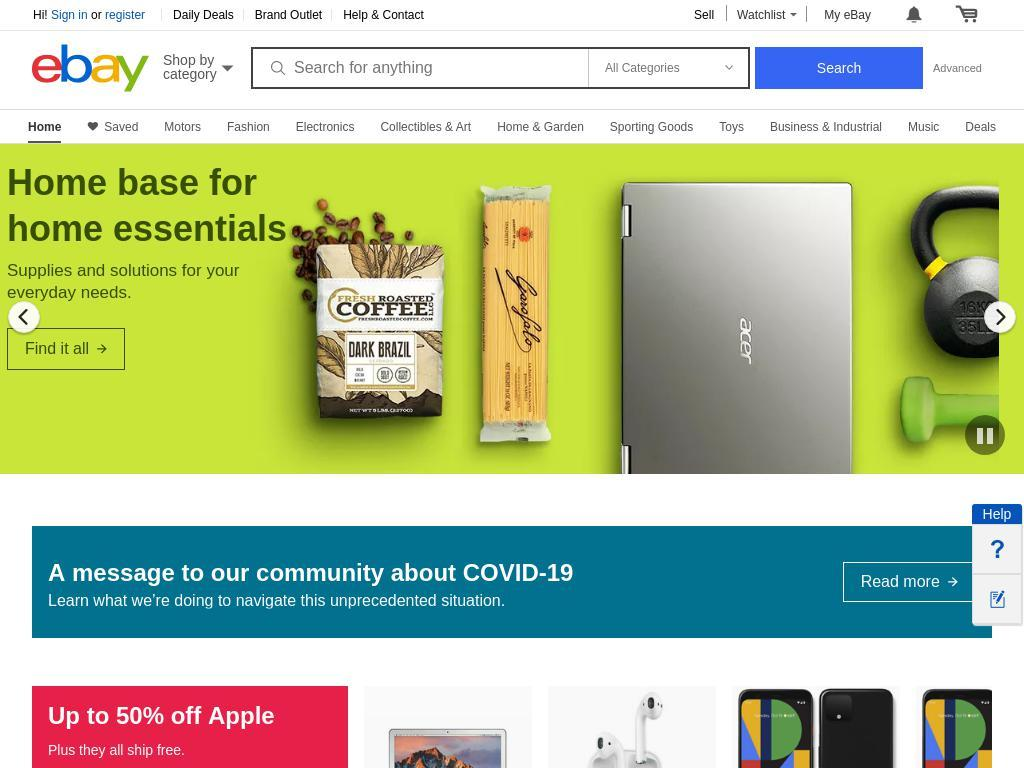button: (0, 144, 1024, 474), (547, 686, 716, 768), (731, 686, 900, 768), (364, 686, 532, 768), (915, 686, 1024, 768), (32, 44, 149, 92), (154, 44, 244, 87), (923, 48, 992, 88), (972, 524, 1022, 574), (972, 574, 1022, 624), (726, 1, 807, 27), (813, 1, 882, 27), (888, 1, 940, 27), (944, 1, 989, 27)
field: (254, 49, 584, 87), (755, 47, 923, 89), (588, 49, 748, 87)
heading: (48, 555, 827, 589), (32, 162, 312, 249), (32, 44, 282, 92), (48, 702, 275, 729), (974, 506, 1020, 522)
image: (547, 685, 716, 768), (733, 685, 899, 768), (917, 685, 1024, 768), (363, 716, 532, 768), (955, 5, 978, 23), (989, 590, 1005, 608), (990, 540, 1004, 558), (220, 65, 234, 72), (787, 12, 796, 18)
link: (769, 120, 882, 134), (380, 120, 472, 134), (497, 120, 585, 134), (609, 120, 693, 134), (343, 8, 425, 22), (254, 8, 322, 22), (173, 8, 235, 22), (295, 120, 354, 134), (227, 120, 271, 134), (105, 8, 146, 22), (164, 120, 202, 134), (51, 8, 88, 22), (104, 120, 139, 134), (907, 120, 939, 134), (965, 120, 997, 134), (719, 120, 745, 134), (694, 7, 715, 22)
text: (32, 261, 264, 302), (48, 591, 505, 609), (48, 742, 185, 758), (163, 52, 217, 82), (860, 573, 945, 590), (50, 340, 118, 357), (27, 120, 61, 143), (737, 7, 786, 22), (906, 5, 922, 24), (33, 8, 51, 22), (91, 8, 106, 22)
